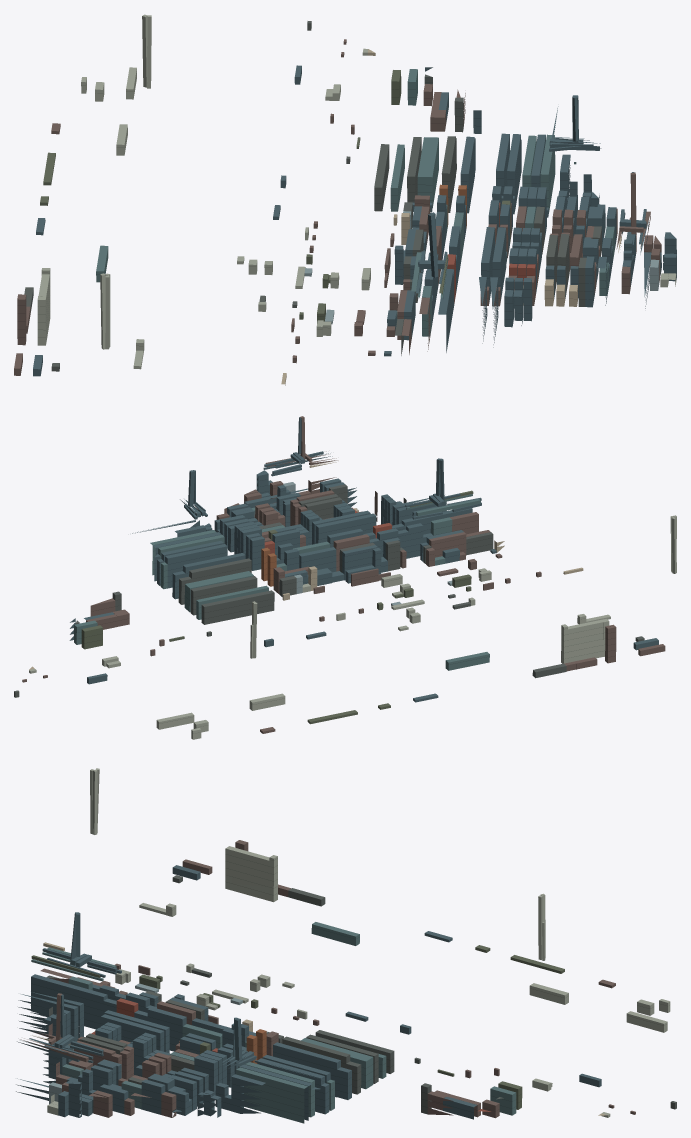
File: terminal-1---139_-19.glb
3 renders of one model, top to bottom at view 1: azimuth 30°, elevation 25°; view 2: azimuth 150°, elevation 25°; view 3: azimuth 270°, elevation 25°, orthographic. The views are drawn at different scales.
Visible parts, largest first — view 1: measured-industrial; view 2: measured-industrial; view 3: measured-industrial.
Boxes of the visible parts, box(x1,y1,x2,y2) form: measured-industrial: box(14, 14, 676, 385); measured-industrial: box(14, 416, 676, 739); measured-industrial: box(16, 768, 676, 1123).
Size of the model in its own units: 239 by 47.53 by 250.
